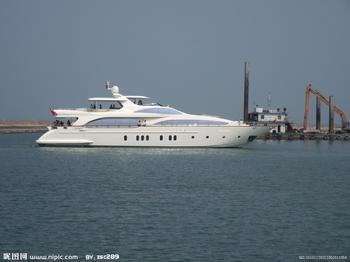yacht: (31, 68, 284, 152)
